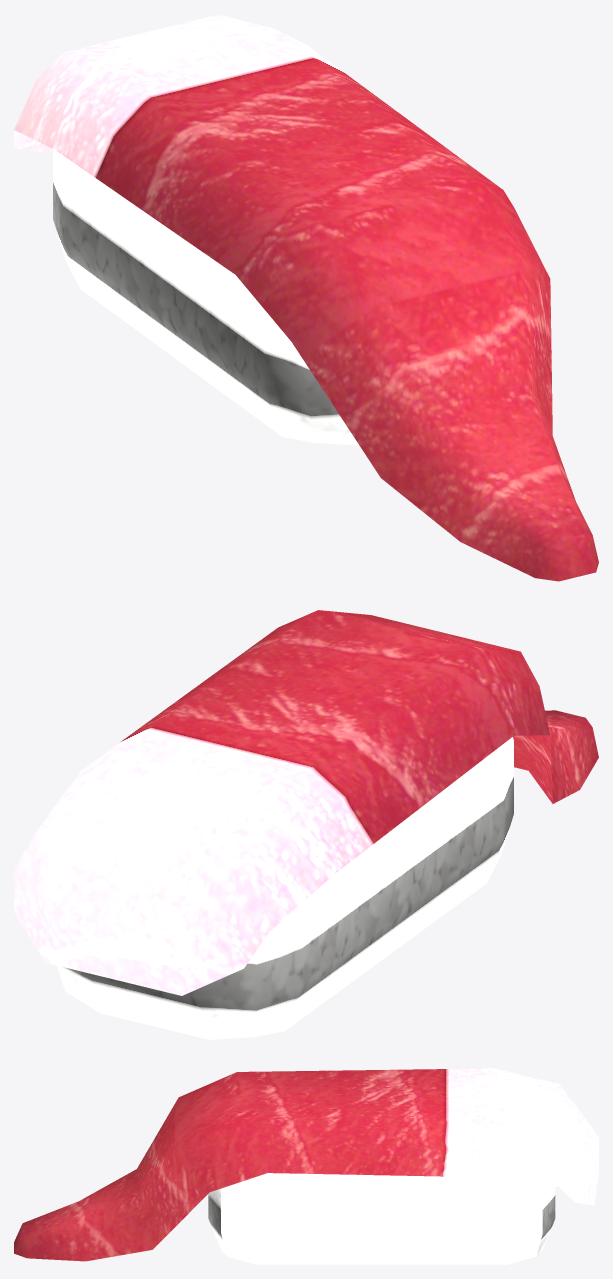
Rendered from SM_Tuna_01.fbx.
The picture shows the model from 3 angles, top to bottom: view 1: azimuth 30°, elevation 25°; view 2: azimuth 150°, elevation 25°; view 3: azimuth 270°, elevation 25°; orthographic projection. The views are drawn at different scales.
Visible parts, largest first — view 1: SM_Tuna_01_LOD0; view 2: SM_Tuna_01_LOD0; view 3: SM_Tuna_01_LOD0.
Boxes of the visible parts, x1=… form: SM_Tuna_01_LOD0: x1=14, y1=14, x2=598, y2=581; SM_Tuna_01_LOD0: x1=14, y1=610, x2=598, y2=1039; SM_Tuna_01_LOD0: x1=14, y1=1068, x2=598, y2=1264.
Bounding box in the file's own units: 3.48 × 10.12 × 2.97.
